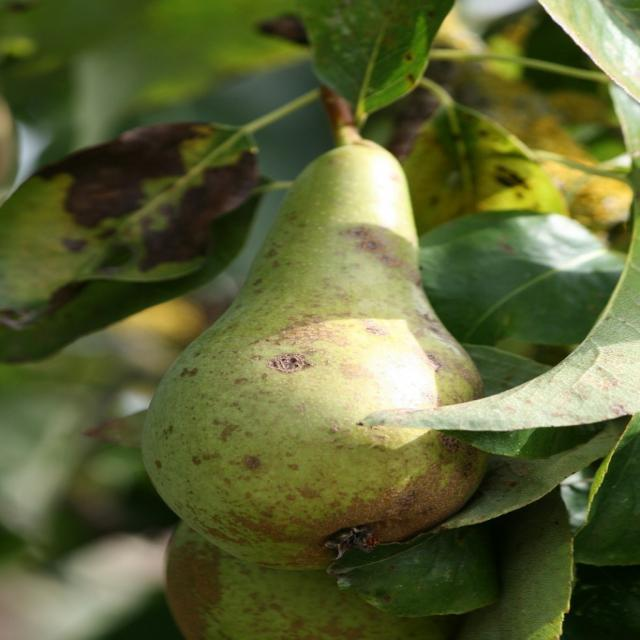Pear: (144, 140, 487, 569), (164, 526, 466, 640)
